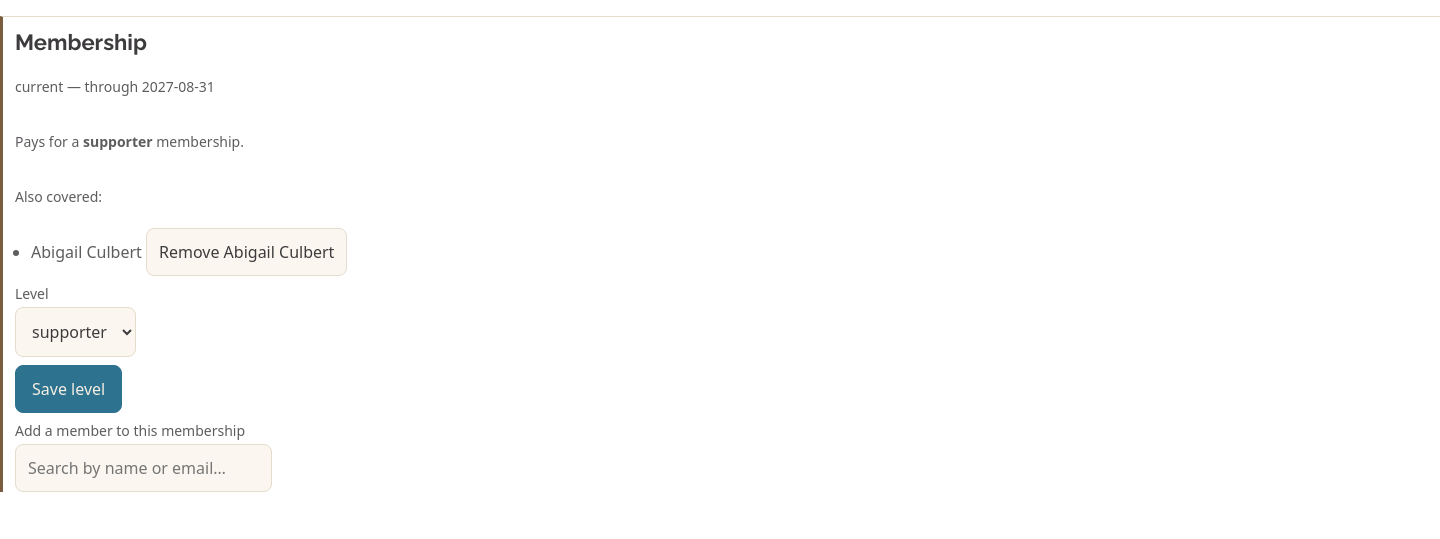
MembershipAccount — maintaining the household (feature 068) › surfaces a capacity refusal, naming who would be displaced (FR-003a)
Step 1. Select "individual" in the dropdown labelled "Level" → [76, 332], box [15,307,136,357]
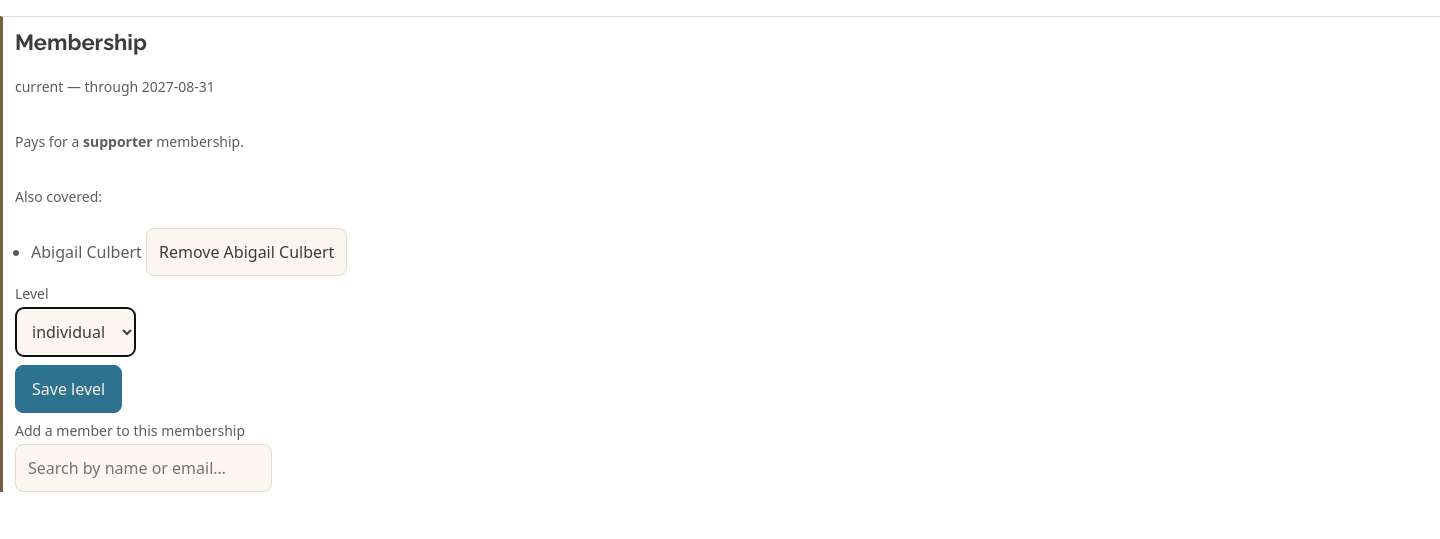
Step 2. Click the button "Save level" → [69, 389], box [15,365,122,413]
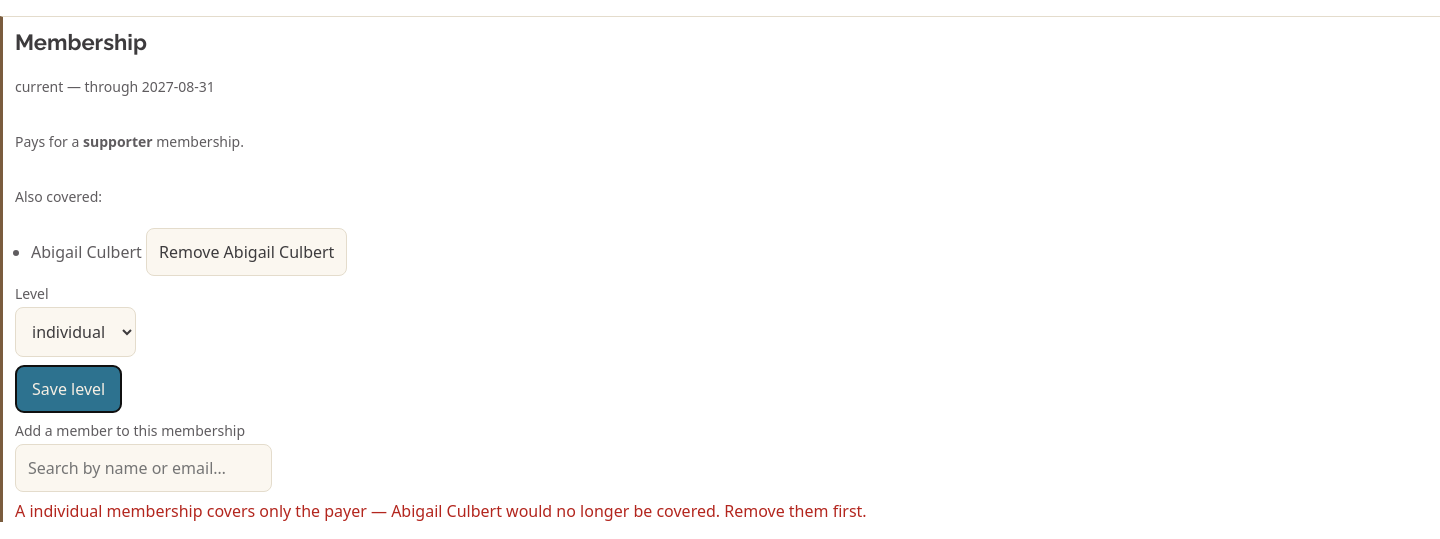
Check: the text "Abigail Culbert would no longer be covered" is shown, box [15,500,867,522]
